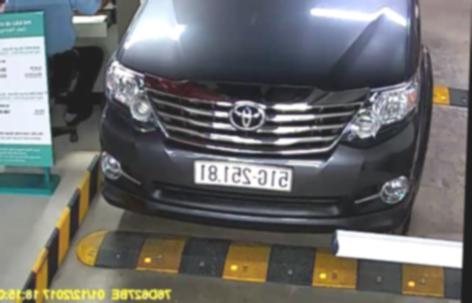License_Plate: (191, 159, 299, 189)
